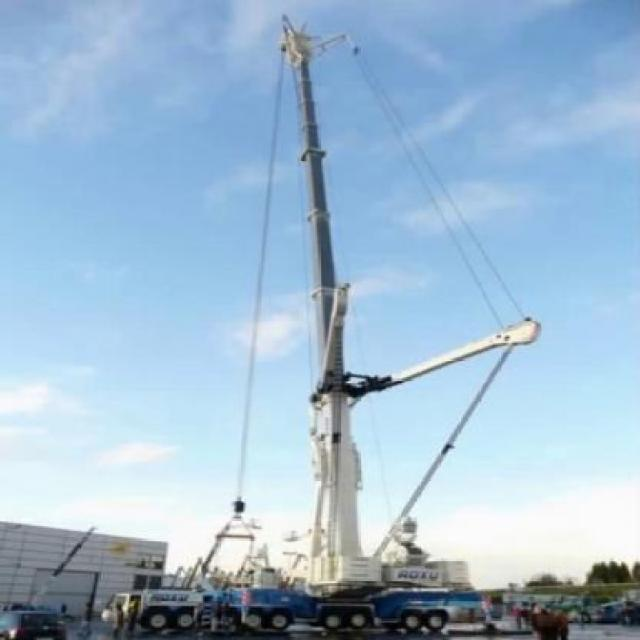Mobile Crane: (99, 12, 539, 630)
